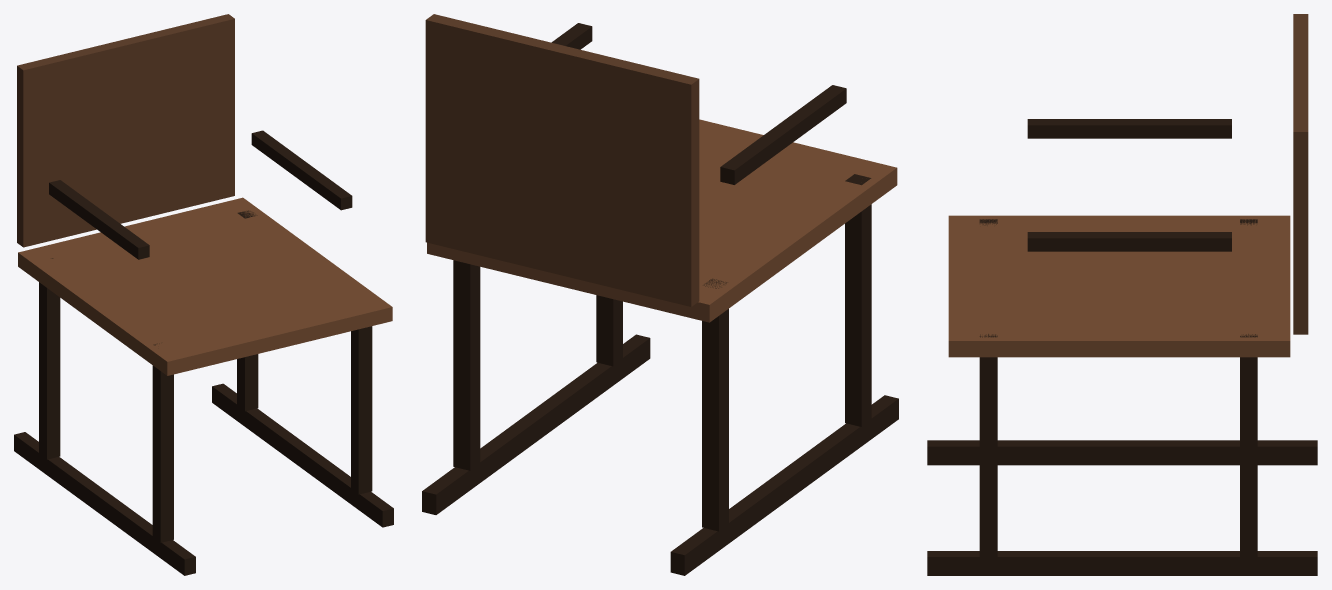
The model's file is chair-rocker.glb.
3 renders of one model, left to right at view 1: azimuth 30°, elevation 25°; view 2: azimuth 150°, elevation 25°; view 3: azimuth 270°, elevation 25°, orthographic. The views are drawn at different scales.
Parts seen in each view (by area): view 1: chair-rocker; view 2: chair-rocker; view 3: chair-rocker.
Part boxes in pixels (left/top/right/bottom): chair-rocker: left=14, top=14, right=393, bottom=575; chair-rocker: left=422, top=14, right=898, bottom=575; chair-rocker: left=927, top=14, right=1317, bottom=575.
Bounding box in the file's own units: 0.6096 × 1.01 × 0.8001.
